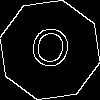O: (25, 25, 74, 79)
